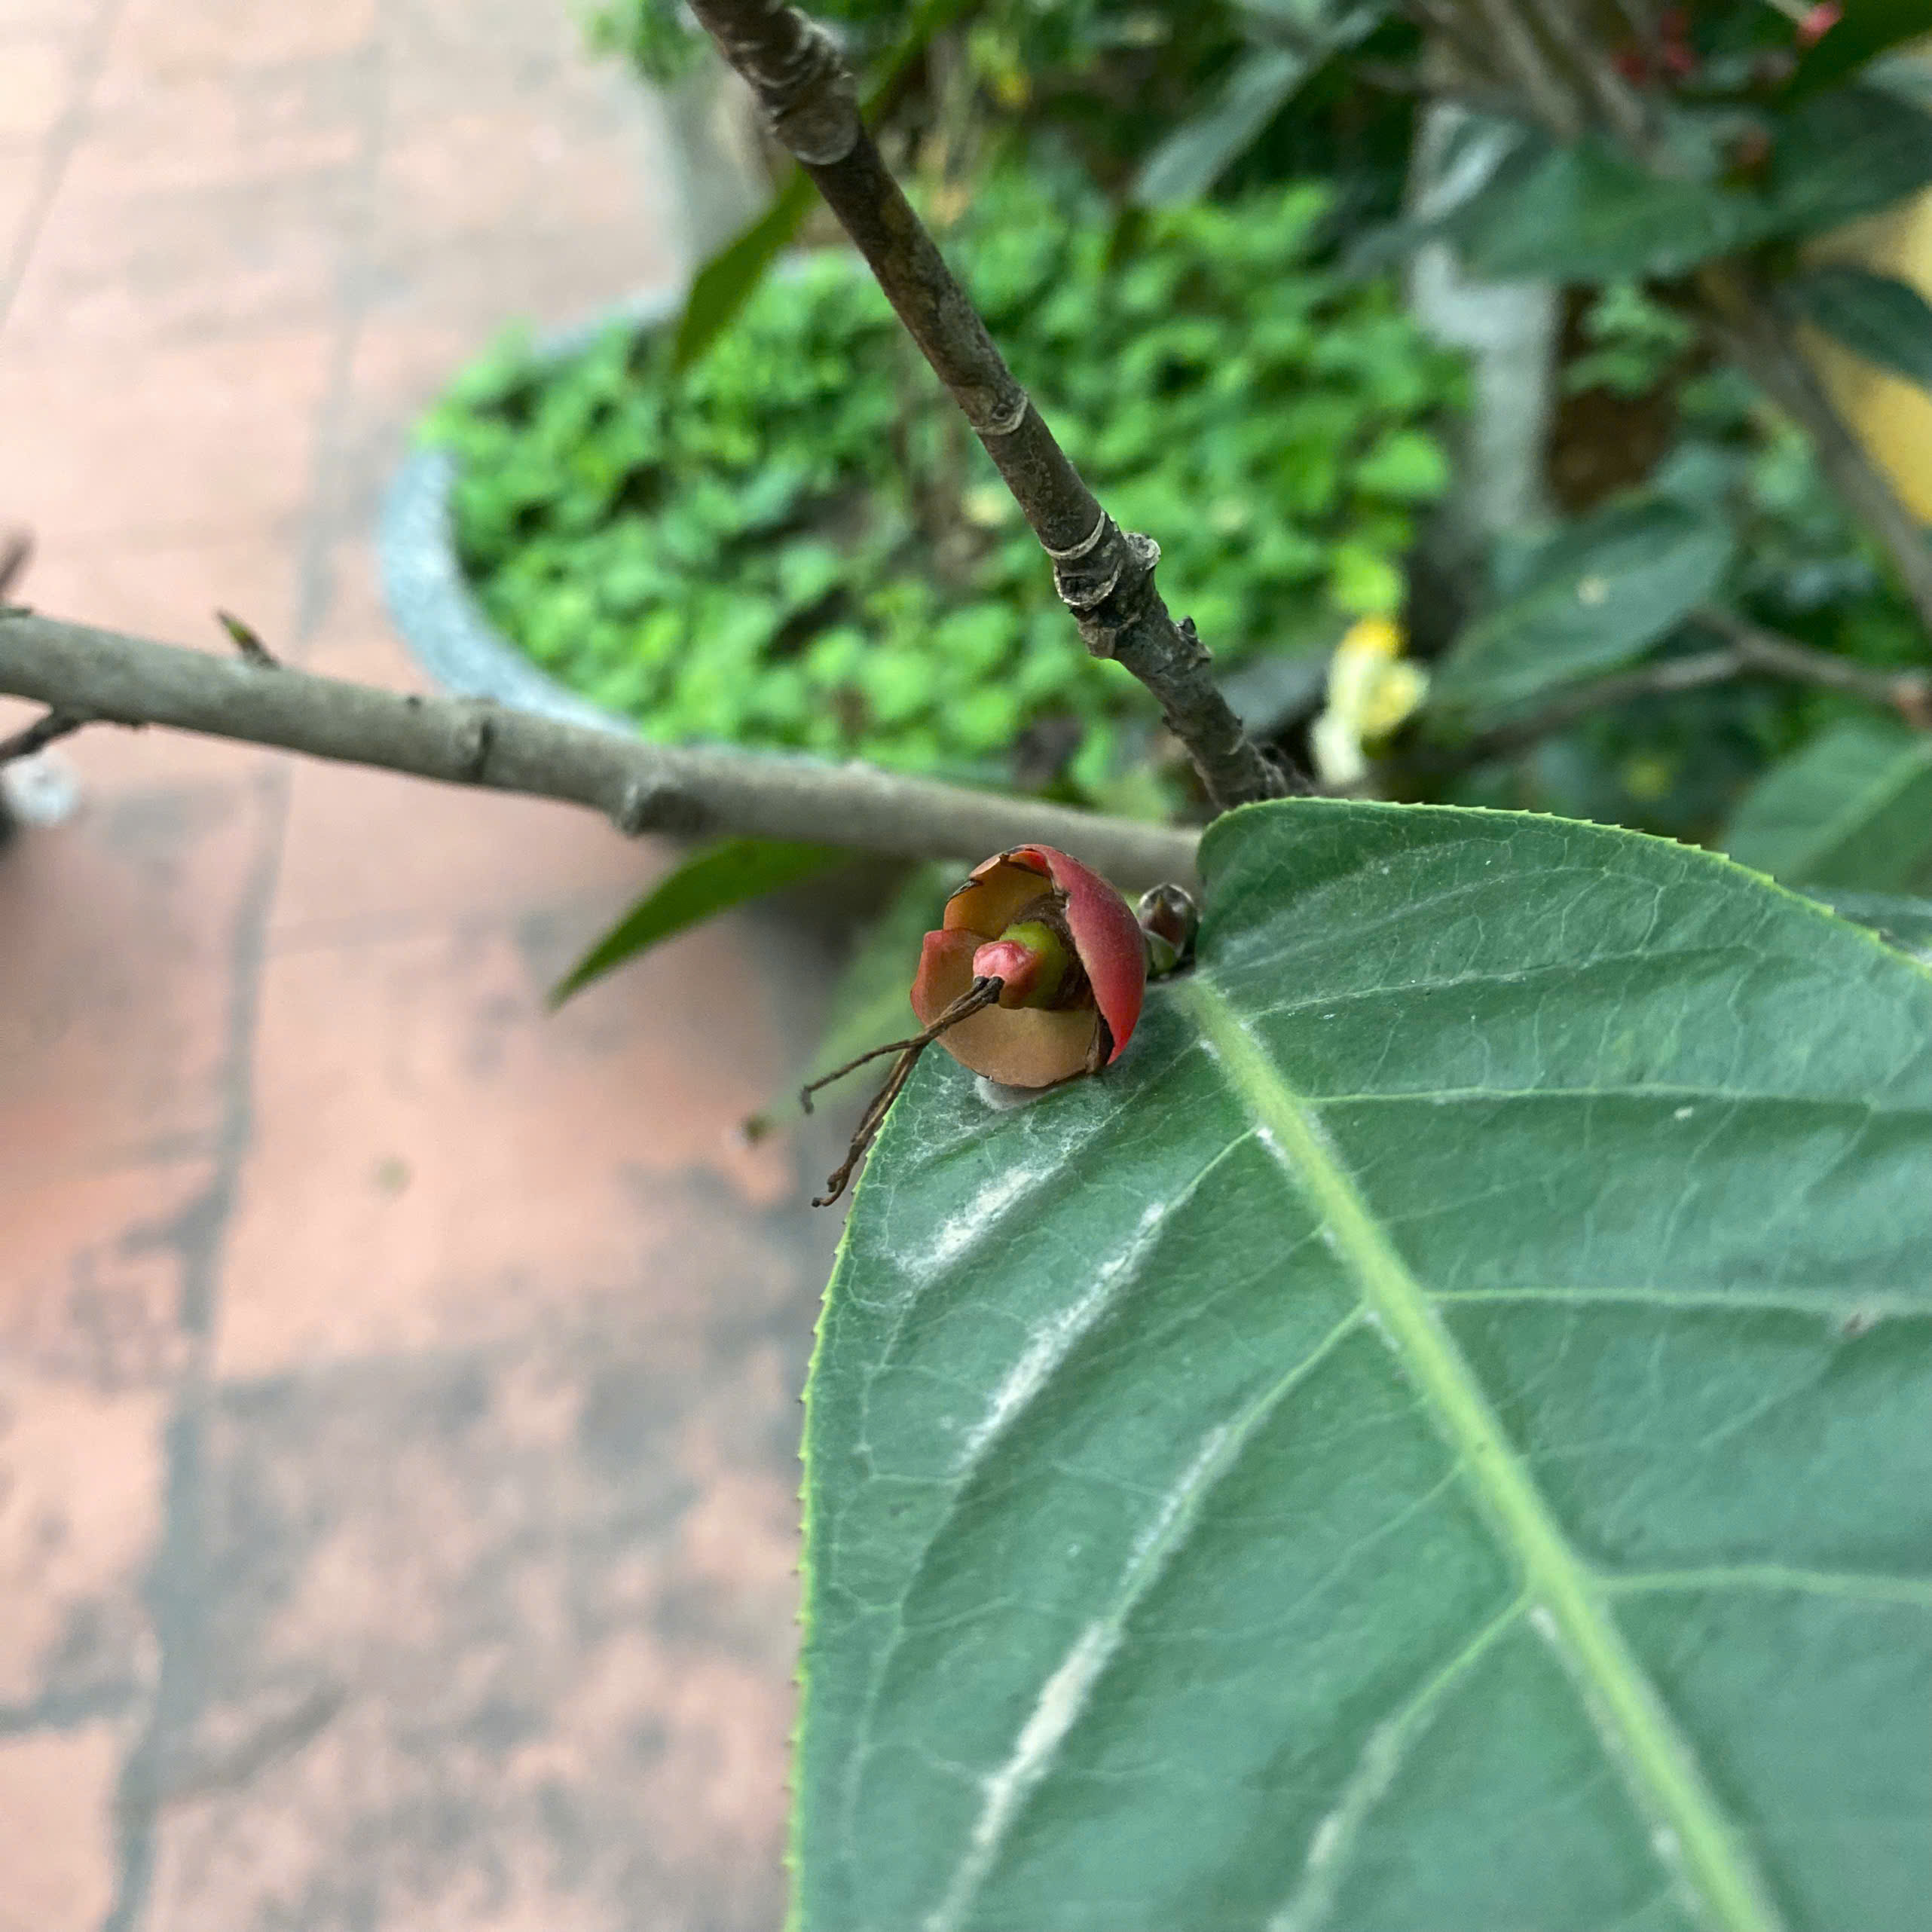hoa_hai_duong: (713, 789, 1932, 1881)
